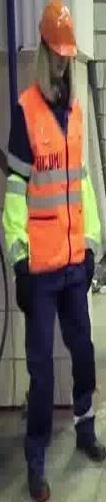boots: (21, 423, 49, 502), (76, 405, 102, 461)
gloves: (14, 259, 32, 315), (15, 275, 33, 315)
hard-hat: (39, 0, 77, 57)
mask: (1, 0, 1, 0)
ppe-suit: (1, 0, 1, 1)
vest: (1, 71, 96, 271)
